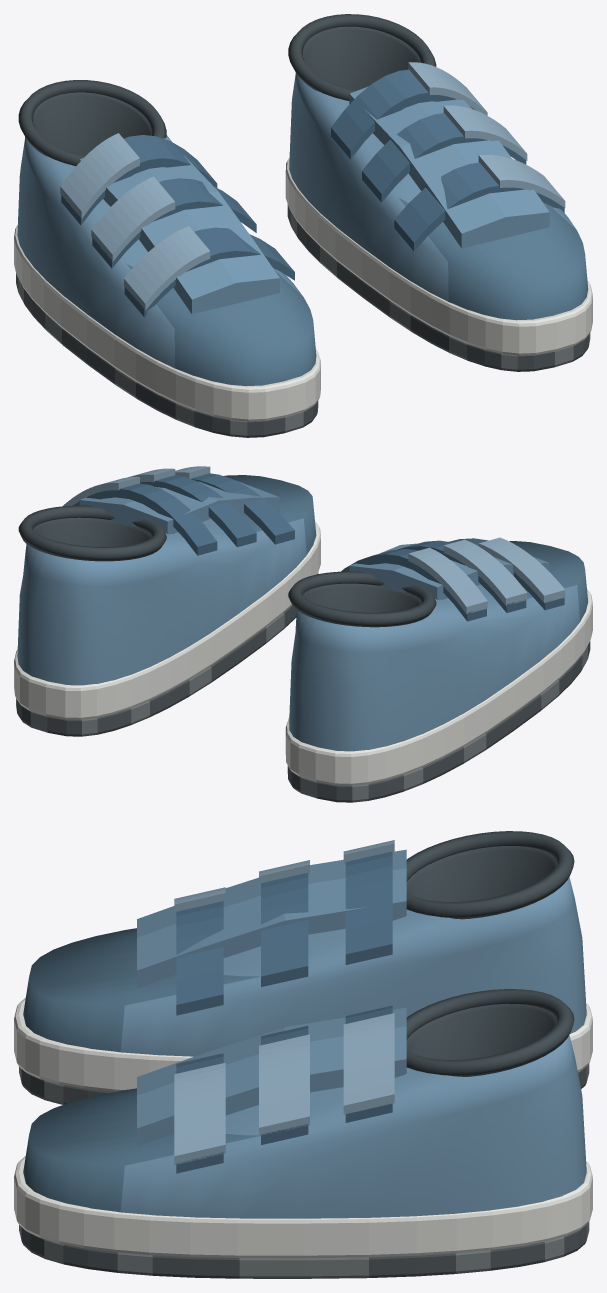
File: shoes_velcro_pair.glb
The picture shows the model from 3 angles, top to bottom: view 1: azimuth 30°, elevation 25°; view 2: azimuth 150°, elevation 25°; view 3: azimuth 270°, elevation 25°; orthographic projection. The views are drawn at different scales.
Visible parts, largest first — view 1: Left shoe hollow low-top fabric upper, Right shoe hollow low-top fabric upper, Left shoe thick rubber midsole, Right shoe thick rubber midsole, Right shoe padded tongue, Left shoe padded tongue, Right shoe rubber outsole with tread blocks, Left shoe rubber outsole with tread blocks, Right shoe Velcro strap 3, Right shoe Velcro strap 1, Right shoe Velcro strap 2, Left shoe overlapping Velcro tab 1 (+10 smaller); view 2: Left shoe hollow low-top fabric upper, Right shoe hollow low-top fabric upper, Left shoe thick rubber midsole, Right shoe thick rubber midsole, Left shoe rubber outsole with tread blocks, Right shoe rubber outsole with tread blocks, Left shoe padded ankle opening, Right shoe padded ankle opening, Right shoe padded tongue, Right shoe Velcro strap 3, Right shoe Velcro strap 2, Left shoe overlapping Velcro tab 2 (+8 smaller); view 3: Right shoe hollow low-top fabric upper, Left shoe hollow low-top fabric upper, Right shoe thick rubber midsole, Right shoe rubber outsole with tread blocks, Left shoe padded tongue, Right shoe padded tongue, Left shoe thick rubber midsole, Left shoe padded ankle opening, Right shoe padded ankle opening, Left shoe Velcro strap 3, Right shoe overlapping Velcro tab 1, Right shoe overlapping Velcro tab 3 (+10 smaller).
Boxes of the visible parts, <box> form: Left shoe hollow low-top fabric upper: <box>17,92,316,386</box>; Right shoe hollow low-top fabric upper: <box>289,26,588,320</box>; Left shoe thick rubber midsole: <box>14,225,320,421</box>; Right shoe thick rubber midsole: <box>285,157,592,355</box>; Right shoe padded tongue: <box>349,86,549,248</box>; Left shoe padded tongue: <box>79,138,279,314</box>; Right shoe rubber outsole with tread blocks: <box>287,204,590,371</box>; Left shoe rubber outsole with tread blocks: <box>16,273,318,437</box>; Right shoe Velcro strap 3: <box>331,69,475,159</box>; Right shoe Velcro strap 1: <box>394,162,564,251</box>; Right shoe Velcro strap 2: <box>362,113,526,202</box>; Left shoe overlapping Velcro tab 1: <box>124,226,210,310</box>; Left shoe hollow low-top fabric upper: <box>289,541,588,751</box>; Right shoe hollow low-top fabric upper: <box>17,475,316,685</box>; Left shoe thick rubber midsole: <box>285,589,592,785</box>; Right shoe thick rubber midsole: <box>14,521,320,719</box>; Left shoe rubber outsole with tread blocks: <box>287,641,590,802</box>; Right shoe rubber outsole with tread blocks: <box>16,573,318,736</box>; Left shoe padded ankle opening: <box>288,571,436,627</box>; Right shoe padded ankle opening: <box>18,505,166,561</box>; Right shoe padded tongue: <box>79,481,279,534</box>; Right shoe Velcro strap 3: <box>73,483,217,555</box>; Right shoe Velcro strap 2: <box>140,475,256,547</box>; Left shoe overlapping Velcro tab 2: <box>443,539,527,605</box>; Right shoe hollow low-top fabric upper: <box>23,1003,586,1218</box>; Left shoe hollow low-top fabric upper: <box>23,846,586,1056</box>; Right shoe thick rubber midsole: <box>14,1155,592,1258</box>; Right shoe rubber outsole with tread blocks: <box>19,1222,589,1278</box>; Left shoe padded tongue: <box>137,849,406,988</box>; Right shoe padded tongue: <box>137,1007,406,1146</box>; Left shoe thick rubber midsole: <box>14,997,592,1091</box>; Left shoe padded ankle opening: <box>406,831,574,919</box>; Right shoe padded ankle opening: <box>406,989,574,1076</box>; Left shoe Velcro strap 3: <box>345,851,392,964</box>; Right shoe overlapping Velcro tab 1: <box>174,1062,225,1164</box>; Right shoe overlapping Velcro tab 3: <box>343,1013,394,1114</box>.
Size of the model in its own units: 0.3024 by 0.1277 by 0.2943.
